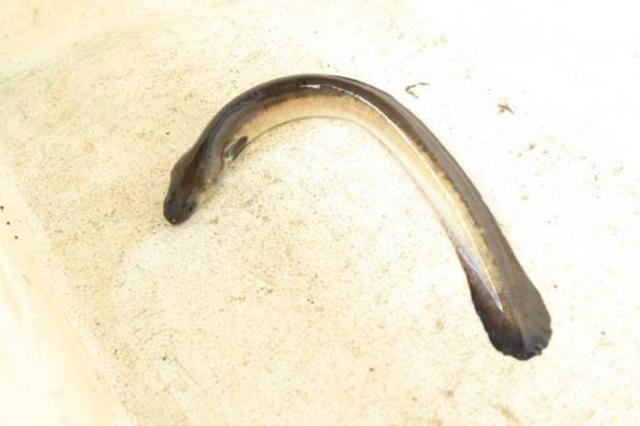Sirip Ekor: (440, 261, 574, 381)
